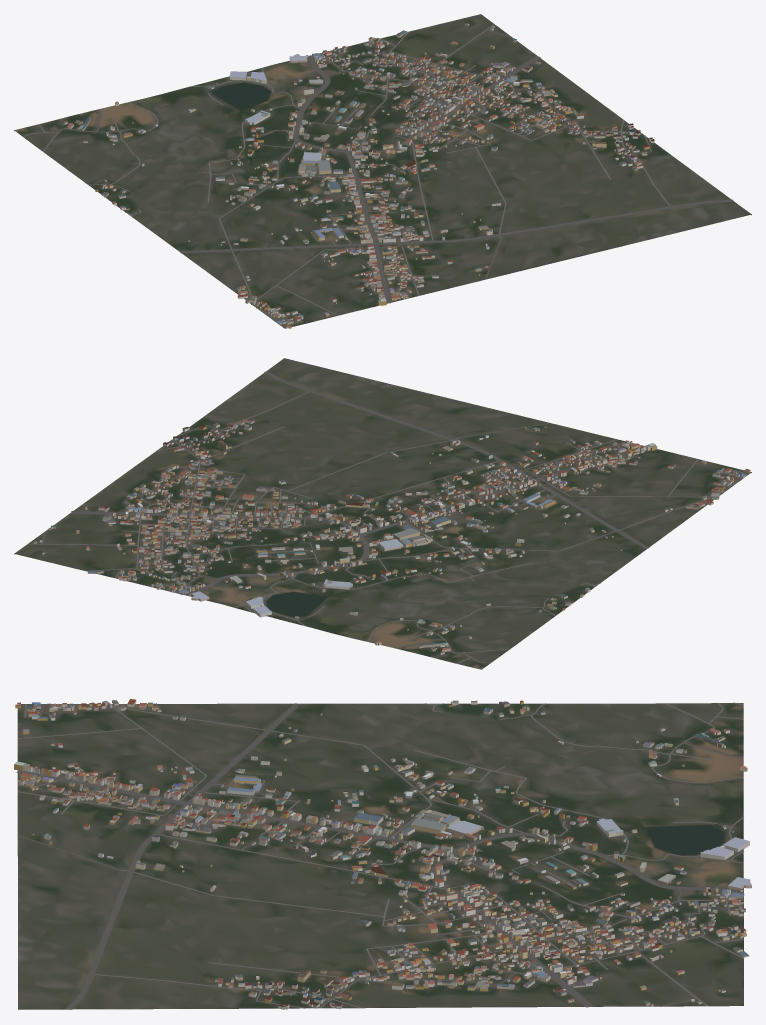
3 renders of one model, top to bottom at view 1: azimuth 30°, elevation 25°; view 2: azimuth 150°, elevation 25°; view 3: azimuth 270°, elevation 25°, orthographic. The views are drawn at different scales.
Visible parts, largest first — view 1: ground, buildings, roads, water; view 2: ground, buildings, roads, water; view 3: ground, buildings, roads, water.
Part boxes in pixels (box(x1,y1,x2,y2)): ground: box(14, 14, 751, 328); buildings: box(64, 23, 654, 328); roads: box(16, 24, 733, 326); water: box(212, 82, 271, 109); ground: box(14, 358, 751, 669); buildings: box(33, 419, 750, 654); roads: box(28, 371, 748, 669); water: box(266, 591, 327, 615); ground: box(17, 703, 743, 1009); buildings: box(14, 699, 751, 1009); roads: box(16, 702, 743, 1009); water: box(647, 825, 723, 855).
Size of the model in its own units: 1414 by 21.54 by 1425.
